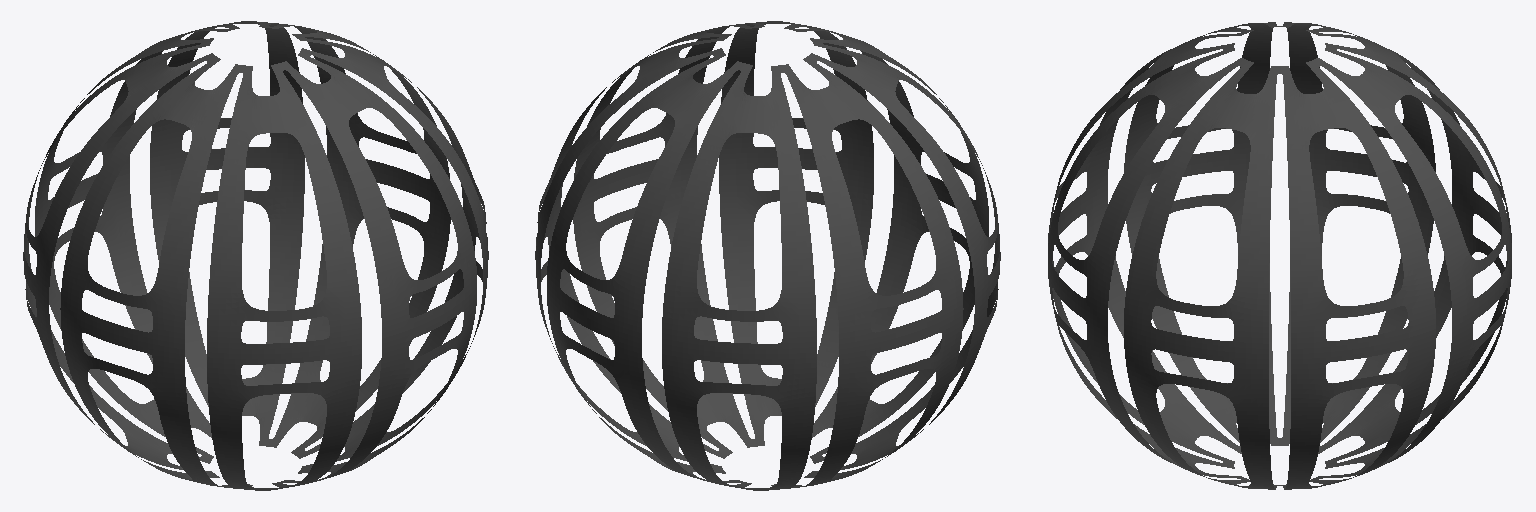
3 views of the same model, side by side, from view 1: azimuth 30°, elevation 25°; view 2: azimuth 150°, elevation 25°; view 3: azimuth 270°, elevation 25° (orthographic).
Parts seen in each view (by area): view 1: sphere_flat_out, sphere_flat_in; view 2: sphere_flat_out, sphere_flat_in; view 3: sphere_flat_out, sphere_flat_in.
Boxes of the visible parts, x1=… form: sphere_flat_out: x1=23, y1=21, x2=488, y2=490; sphere_flat_in: x1=23, y1=21, x2=488, y2=490; sphere_flat_out: x1=535, y1=21, x2=1000, y2=490; sphere_flat_in: x1=535, y1=21, x2=1000, y2=490; sphere_flat_out: x1=1048, y1=22, x2=1511, y2=489; sphere_flat_in: x1=1048, y1=22, x2=1511, y2=489.
Size of the model in its own units: 493 by 490 by 493.